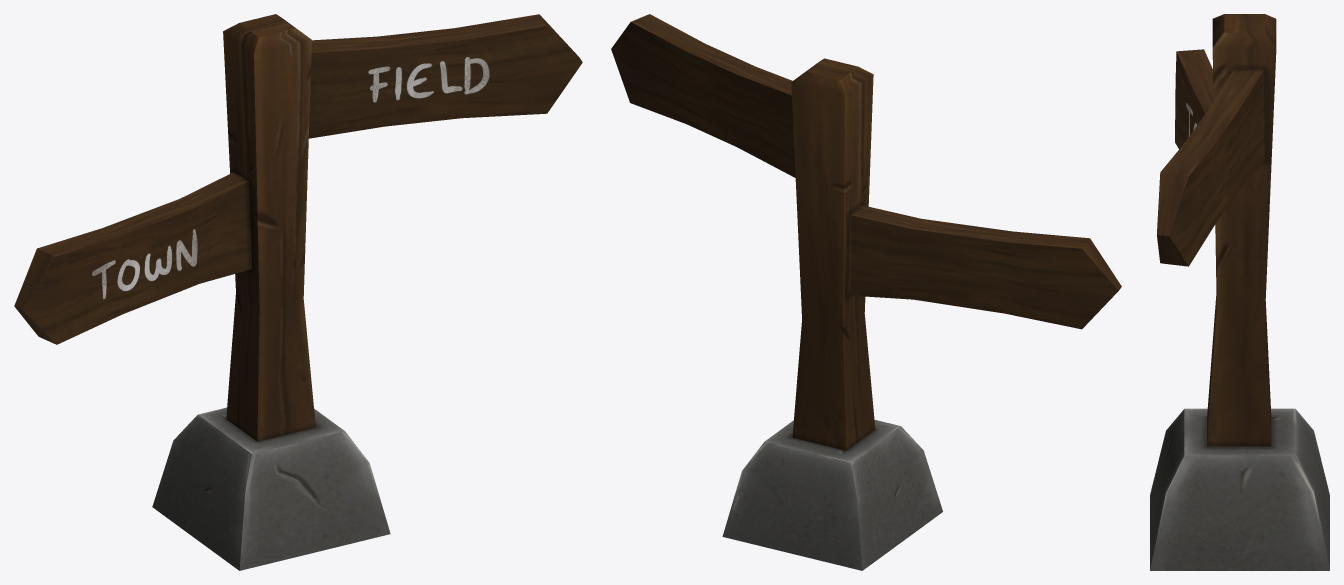
The model's file is modelTown.fbx.
3 renders of one model, left to right at view 1: azimuth 30°, elevation 25°; view 2: azimuth 150°, elevation 25°; view 3: azimuth 270°, elevation 25°, orthographic. The views are drawn at different scales.
Parts seen in each view (by area): view 1: modelTown; view 2: modelTown; view 3: modelTown.
Part boxes in pixels (box(x1,y1,x2,y2)): modelTown: box(14, 14, 582, 570); modelTown: box(611, 14, 1121, 570); modelTown: box(1150, 14, 1329, 570).
Bounding box in the file's own units: 23.45 × 19.87 × 6.36.
